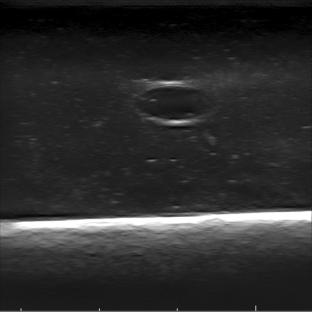vessel: (133, 81, 215, 126)
